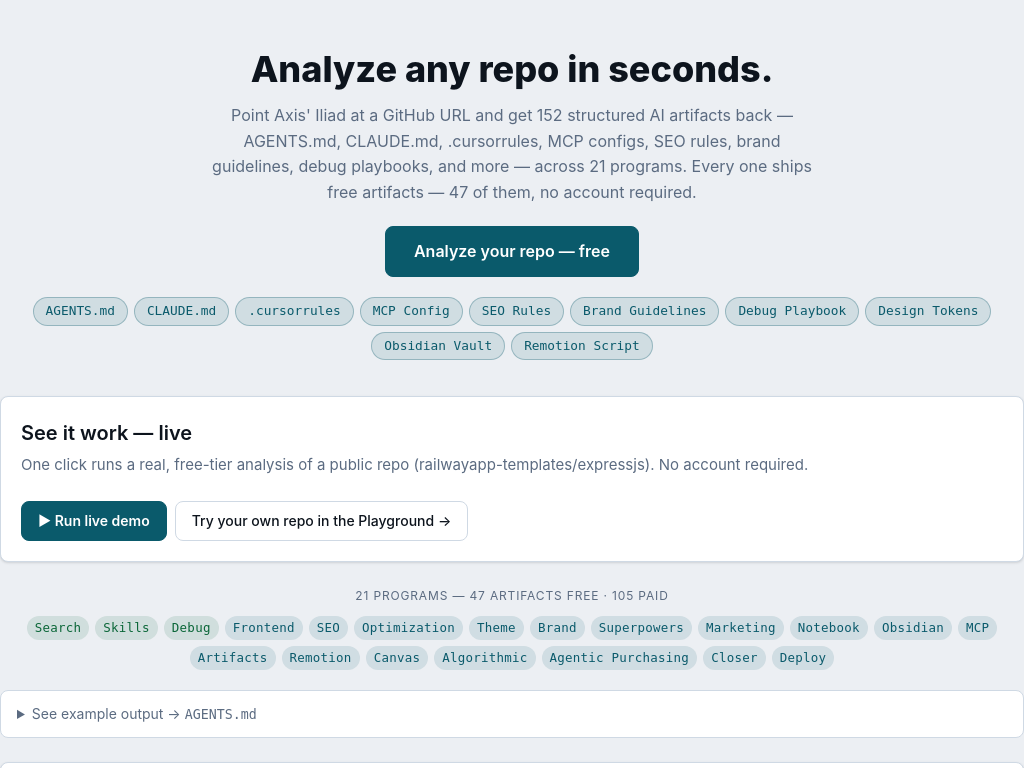
Test: HomePage — live demo teaser + live stats (WO-P1) › live demo failure shows a Callout with retry — not a raw error or a crash
Click the button "▶ Run live demo" at (94, 521), box [21,501,167,542]
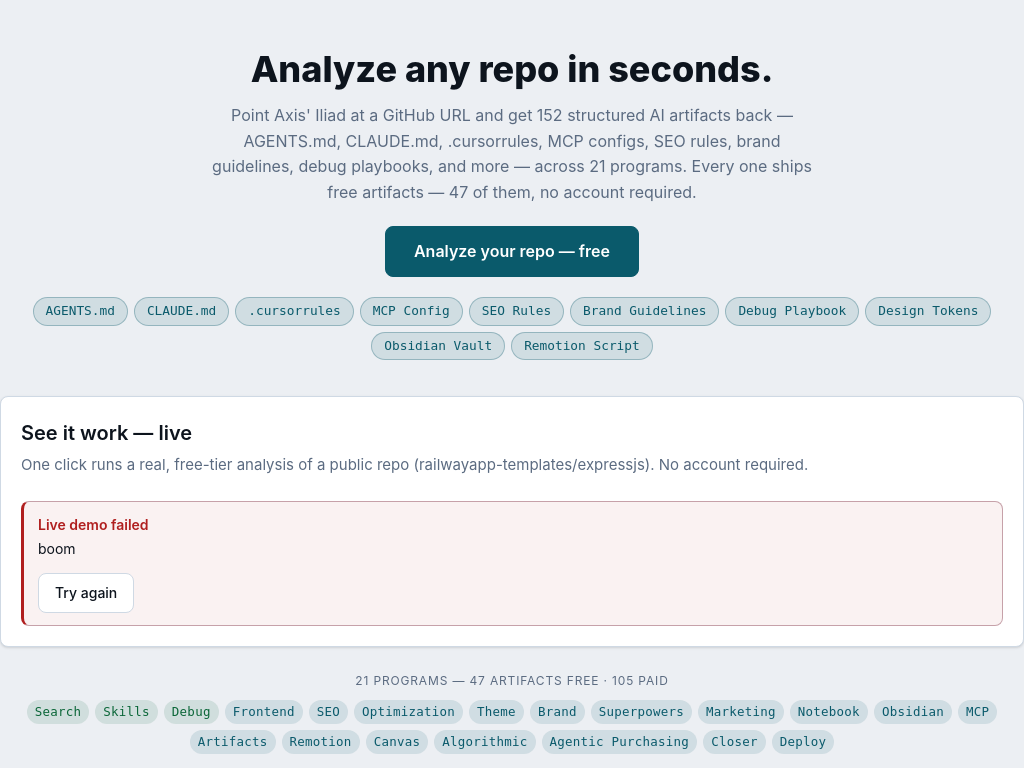
Expected: the text "boom" is shown, [38,540,76,558]
Expected: the button "Try again" is shown, [38,573,134,613]
